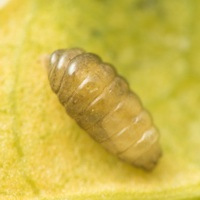insect: (49, 48, 160, 169)
